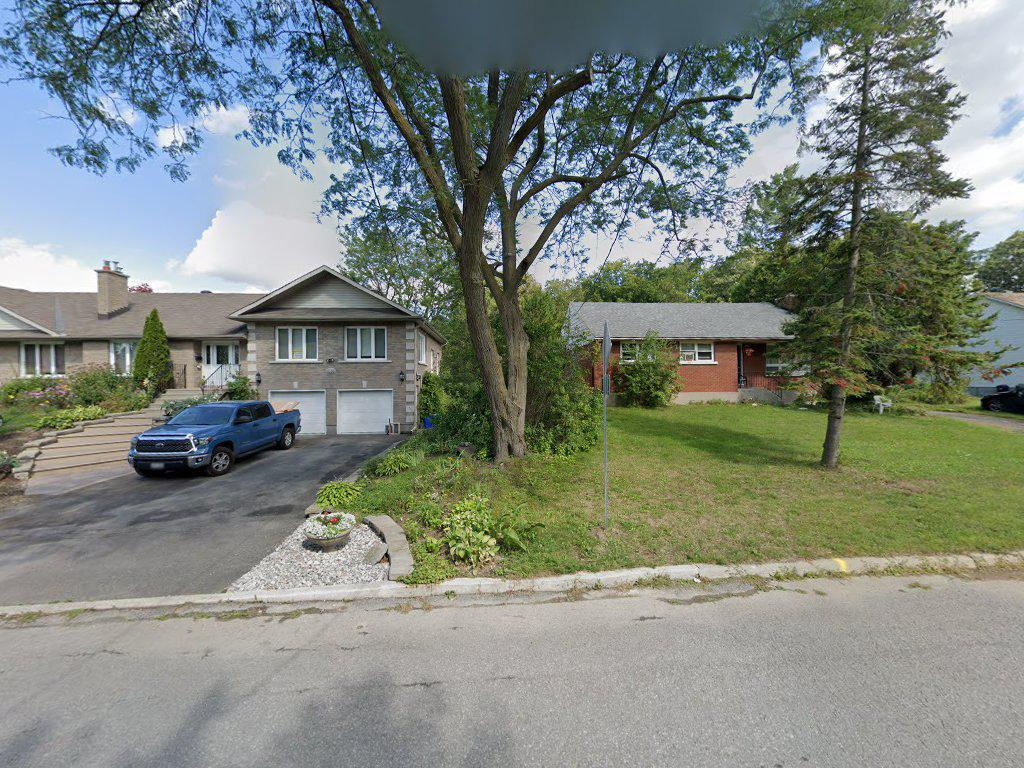trunk: (473, 319, 531, 464), (820, 359, 847, 480)
